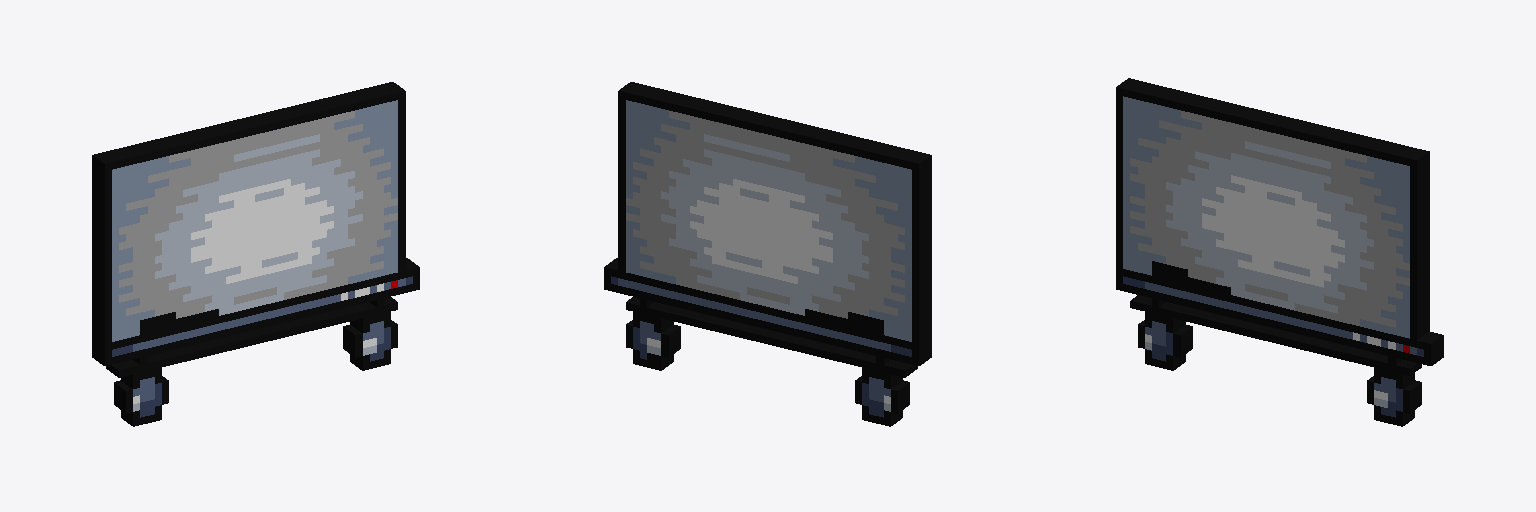
3 views of the same model, side by side, from view 1: azimuth 30°, elevation 25°; view 2: azimuth 150°, elevation 25°; view 3: azimuth 330°, elevation 25° (orthographic).
Visible parts, largest first — view 1: object 1; view 2: object 1; view 3: object 1.
Boxes of the visible parts, <box> form: object 1: <box>92,82,419,426</box>; object 1: <box>604,82,931,426</box>; object 1: <box>1116,78,1443,426</box>.
Bounding box in the file's own units: 4.4 × 3.6 × 0.3.
1 materials, 1 textured.